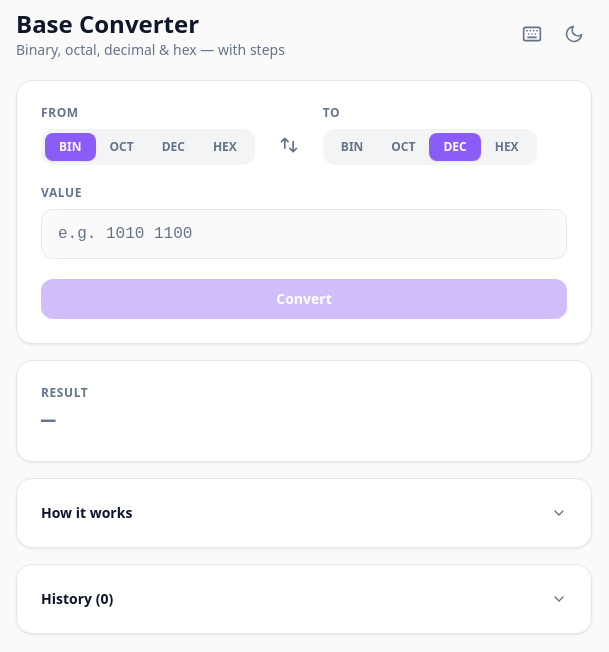
Test case: App › clears all state when clear button is clicked
Type "1010" into the field named "Value to convert".
click(304, 234); type("1010")  # box x1=41 y1=209 x2=567 y2=259
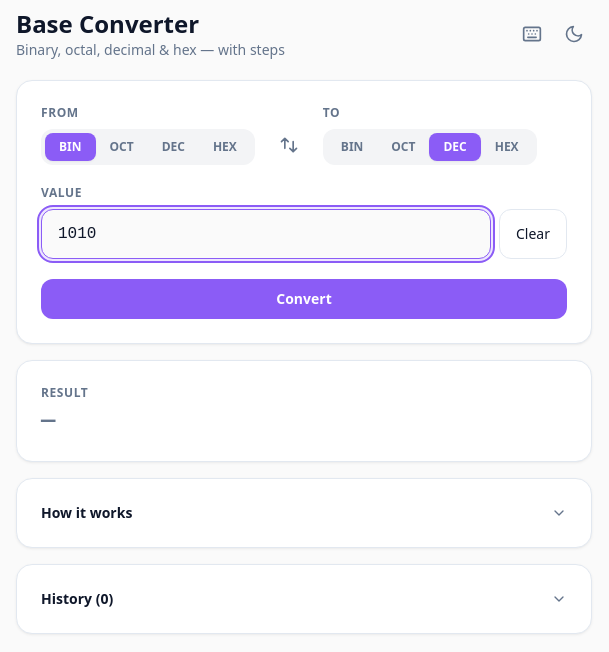
Click the button with aria-label "Clear input".
click(533, 234)  # box x1=499 y1=209 x2=567 y2=259
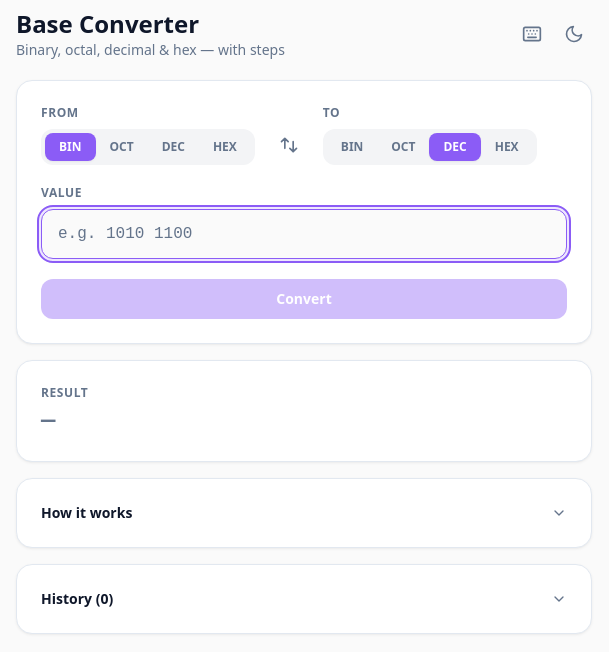
Expected: the field named "Value to convert" is empty, x1=41 y1=209 x2=567 y2=259
